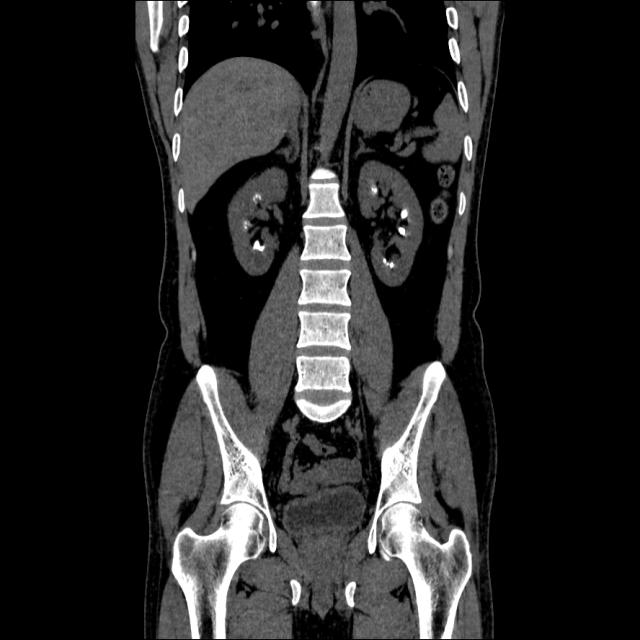kidneystone: (252, 239, 265, 251), (252, 191, 262, 205), (382, 259, 395, 269), (400, 208, 409, 219), (398, 225, 406, 237), (371, 184, 379, 194)
